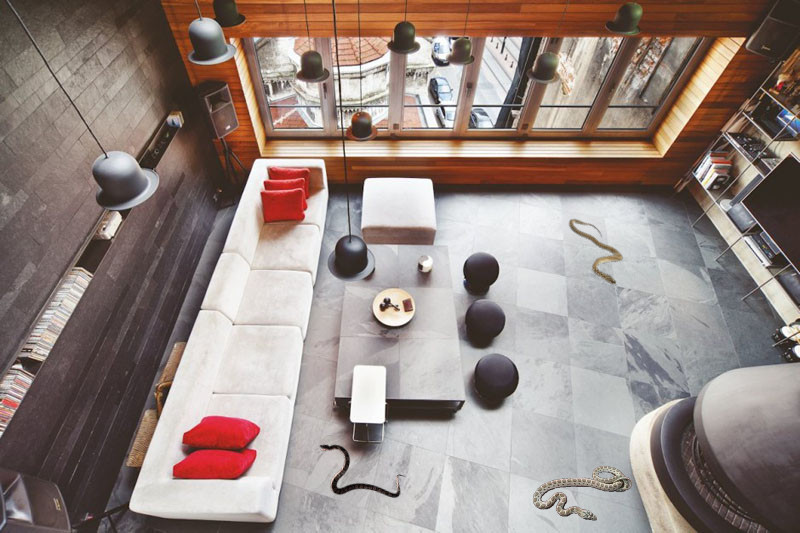snake: (530, 464, 634, 523), (317, 443, 407, 501), (567, 216, 623, 285)
